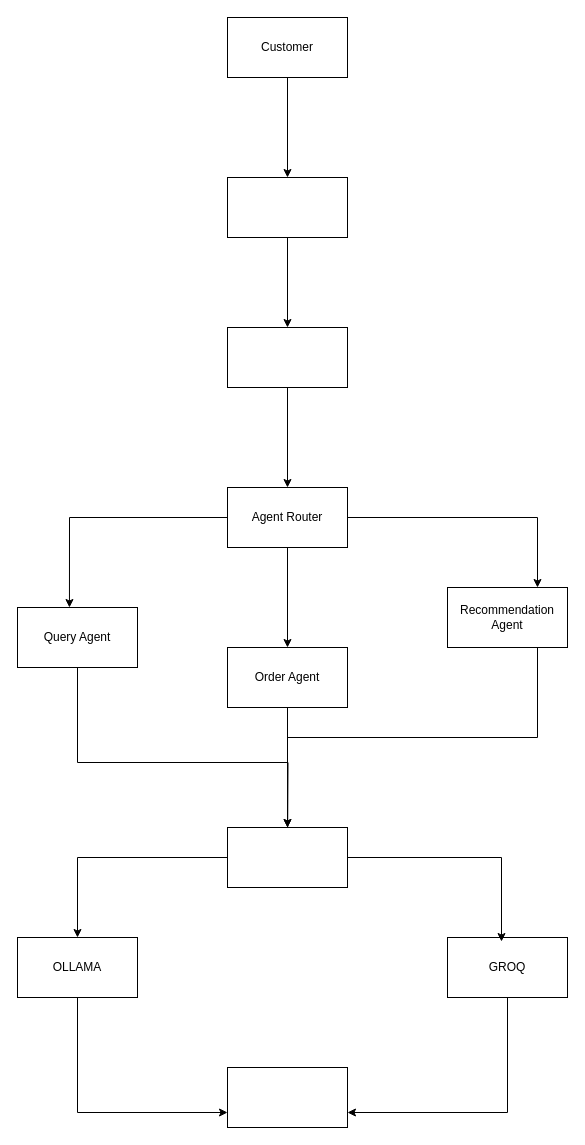
This 585x1145 diagram has some shape labels left out. Each missing label, with the box of its shape:
Chatbot Frontend HTML / CSS / JS: (226, 176, 348, 238)
FastAPI Backend: (226, 326, 348, 388)
LLM Service: (226, 826, 348, 888)
Responsec: (226, 1066, 348, 1128)
